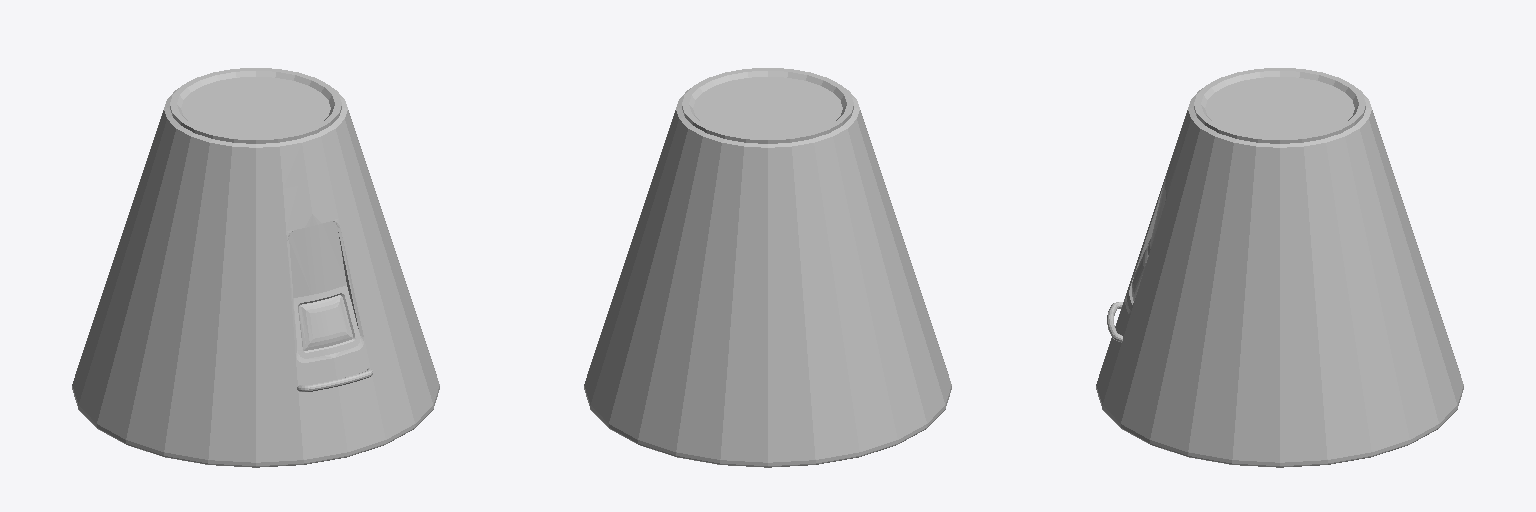
The picture shows the model from 3 angles: view 1: azimuth 30°, elevation 25°; view 2: azimuth 150°, elevation 25°; view 3: azimuth 270°, elevation 25°; orthographic projection.
Visible parts, largest first — view 1: Mk1_New; view 2: Mk1_New; view 3: Mk1_New.
Boxes of the visible parts, box(x1,y1,x2,y2) form: Mk1_New: box(72, 68, 439, 467); Mk1_New: box(584, 68, 951, 467); Mk1_New: box(1096, 68, 1463, 467).
Bounding box in the file's own units: 1.25 × 1.14 × 1.25.